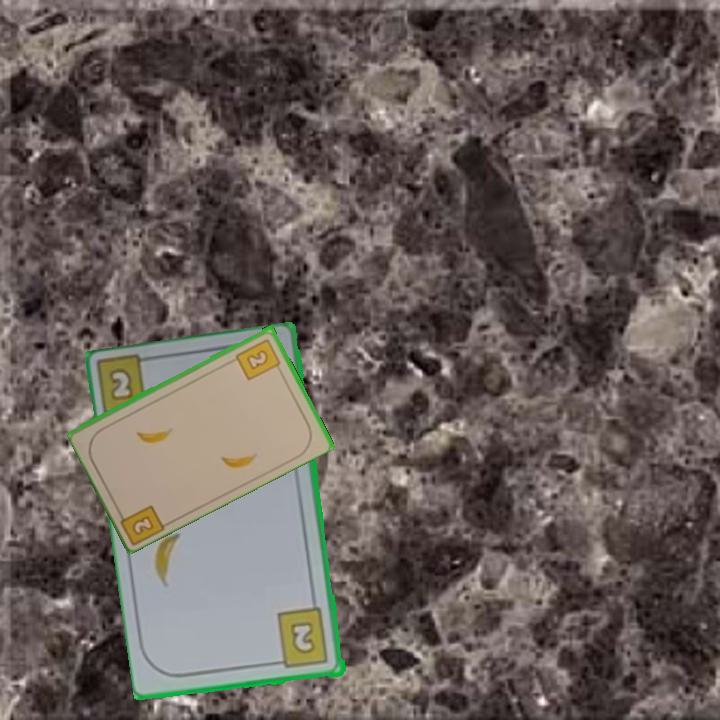2b: (271, 605, 332, 672), (232, 335, 284, 383), (114, 501, 169, 546), (109, 368, 134, 401)
